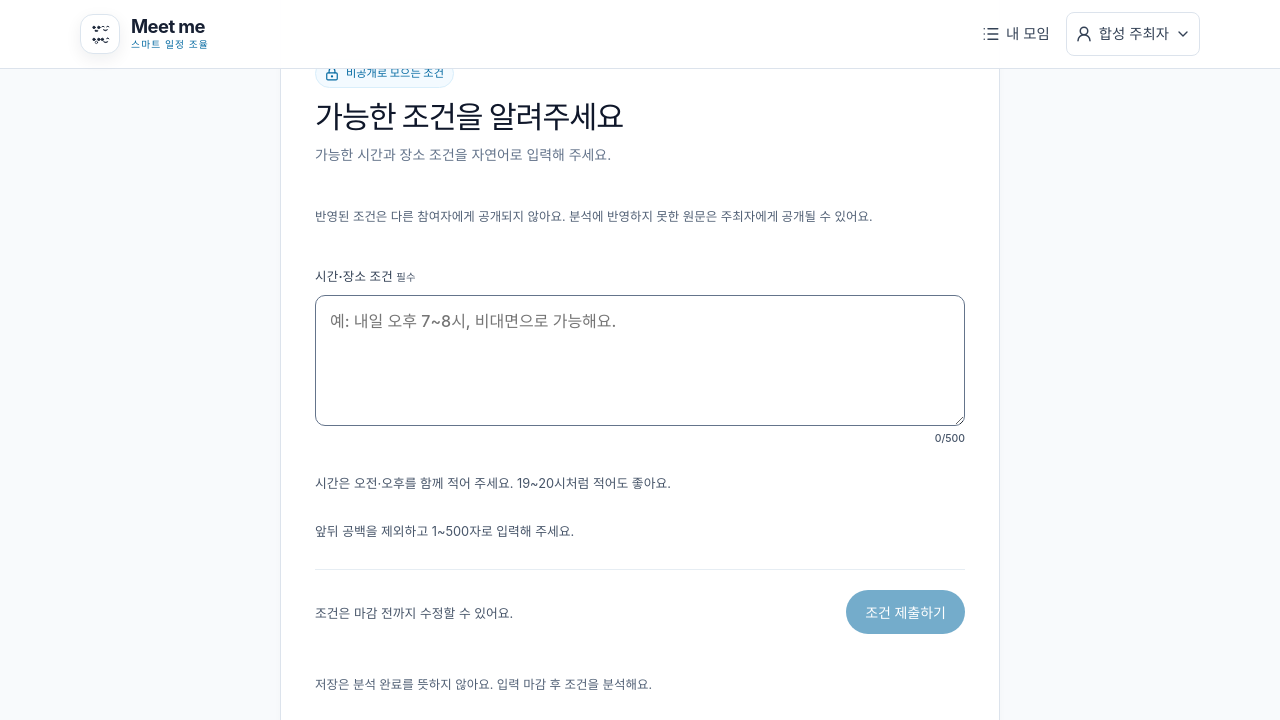
independent review: initial HOST draft boundaries › retains the first input on a rejected deadline save and does not permit closed editing
The image size is (1280, 720).
(page scrolled)
Type "  화요일 저녁, 아직 저장 여부를 확인하지 않은 합성 조건  " into the text box. click: x=640, y=361
box: x1=315 y1=295 x2=965 y2=426
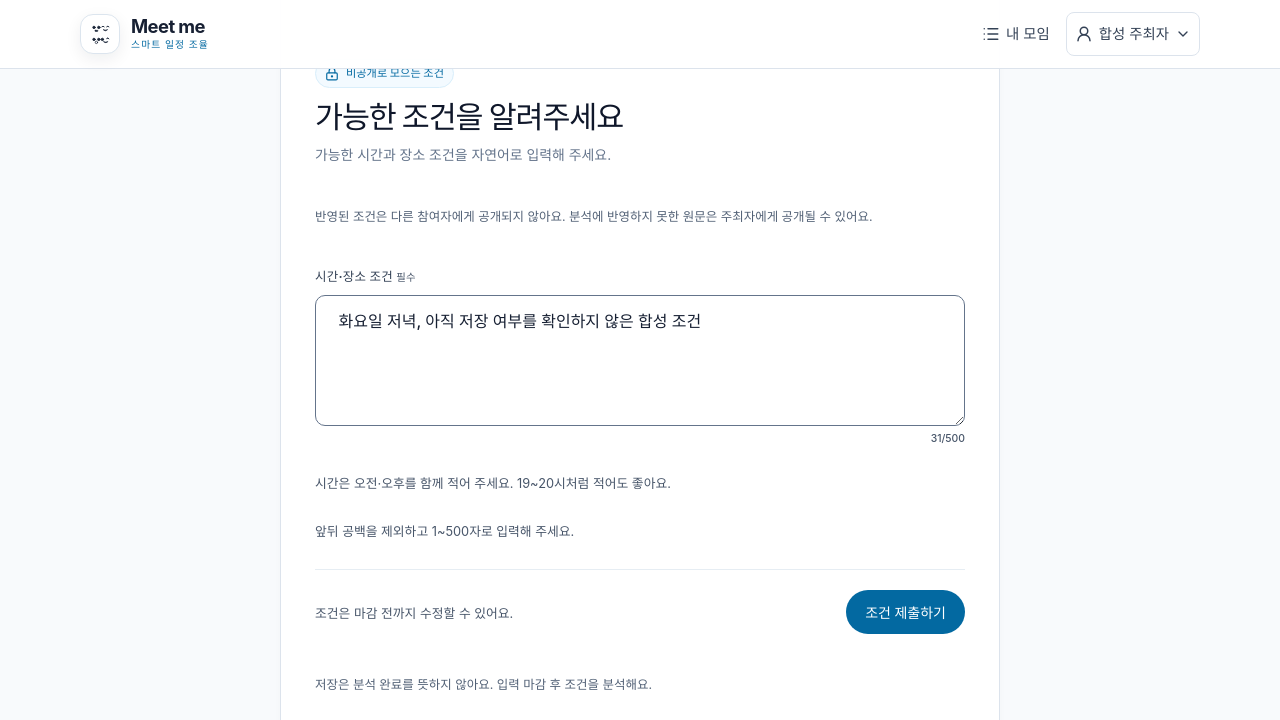
Click the button "조건 제출하기". click: x=906, y=612
box: x1=846 y1=590 x2=965 y2=634
(page scrolled)
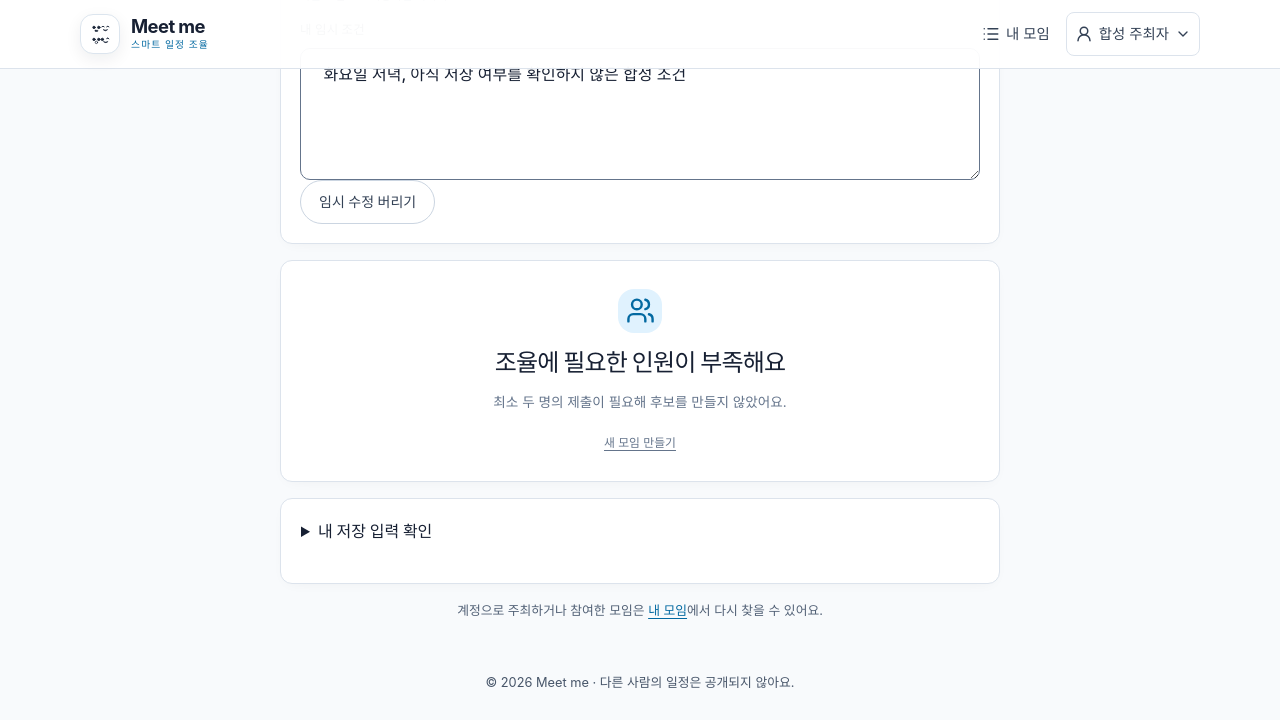
Expected: the button "조건 제출하기" is gone
